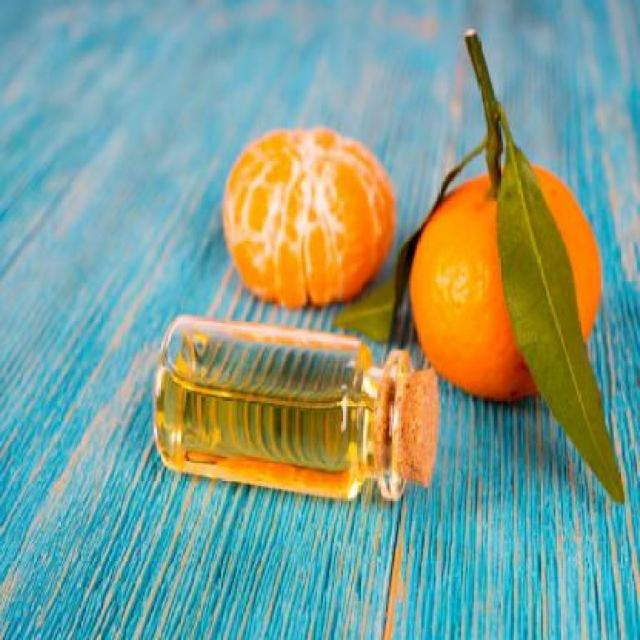Orange: (408, 162, 602, 400)
